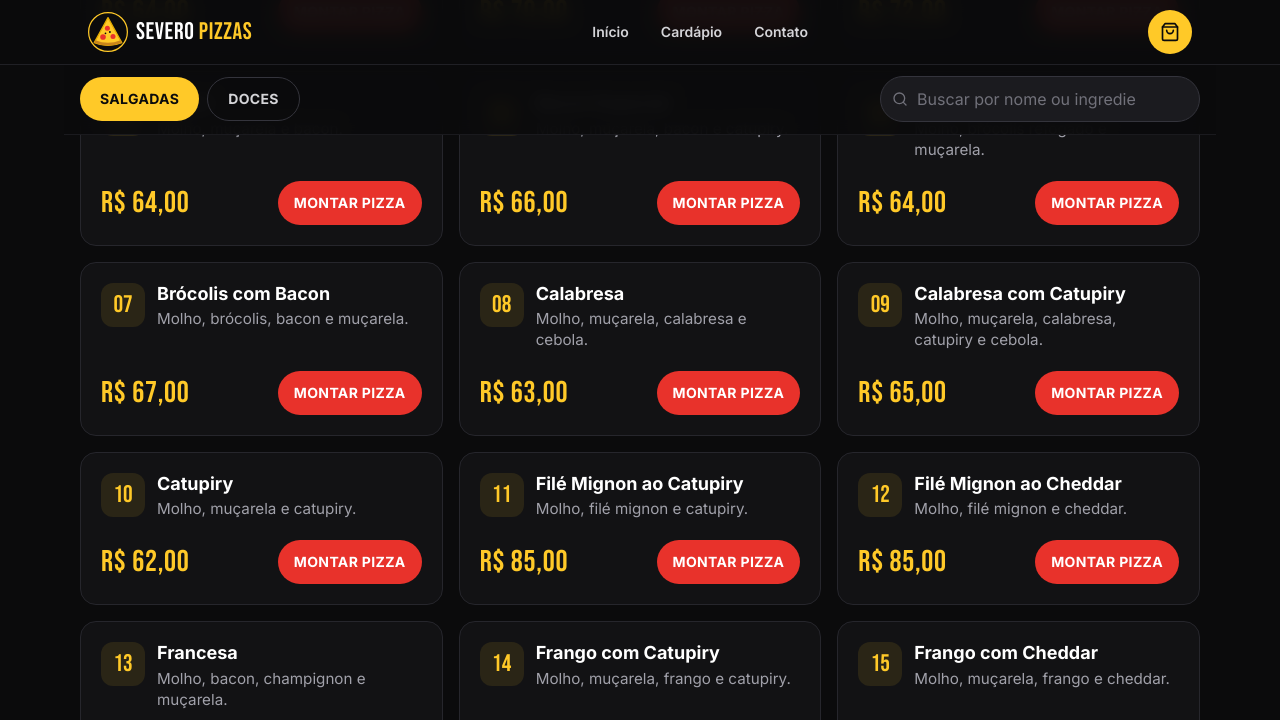
Test: personalizador › não permite o mesmo sabor nas duas metades
(page scrolled)
Click the button with aria-label "Montar pizza Calabresa" at (728, 393), box [656,371,800,415]
(page scrolled)
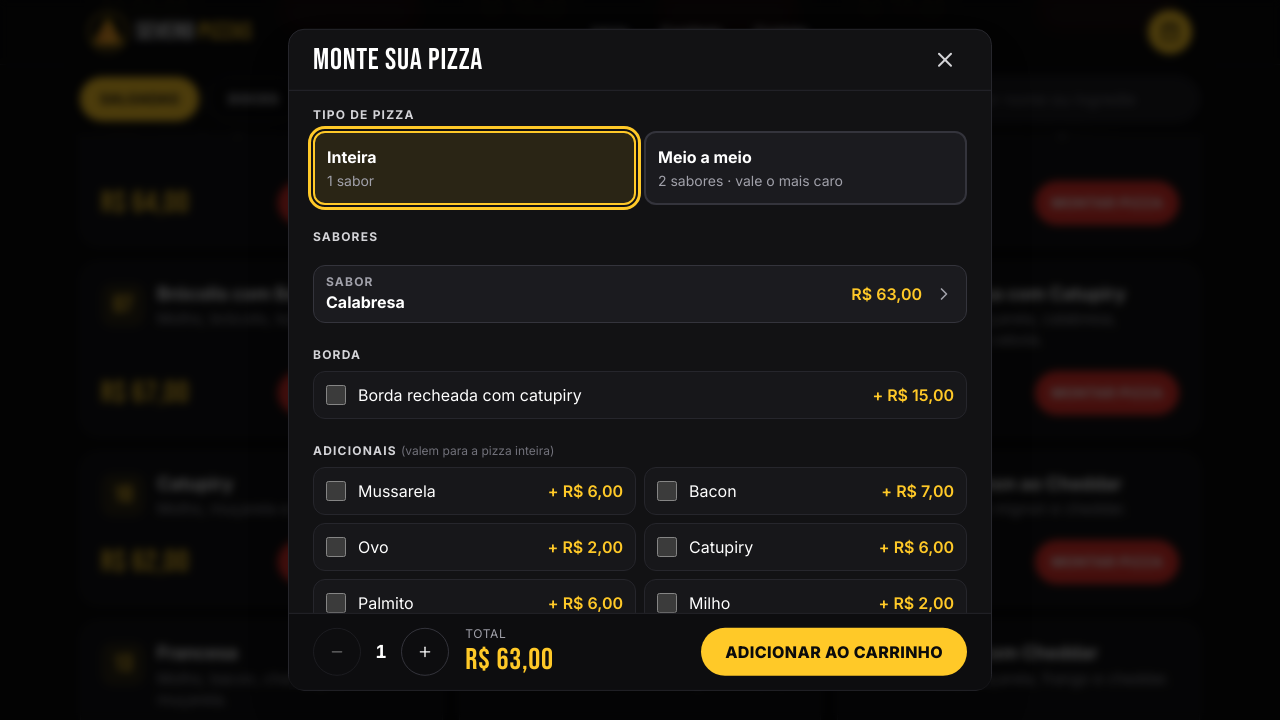
Click the radio button labelled "Meio a meio 2 sabores · vale o mais caro" at (705, 157), box [644,131,967,205]
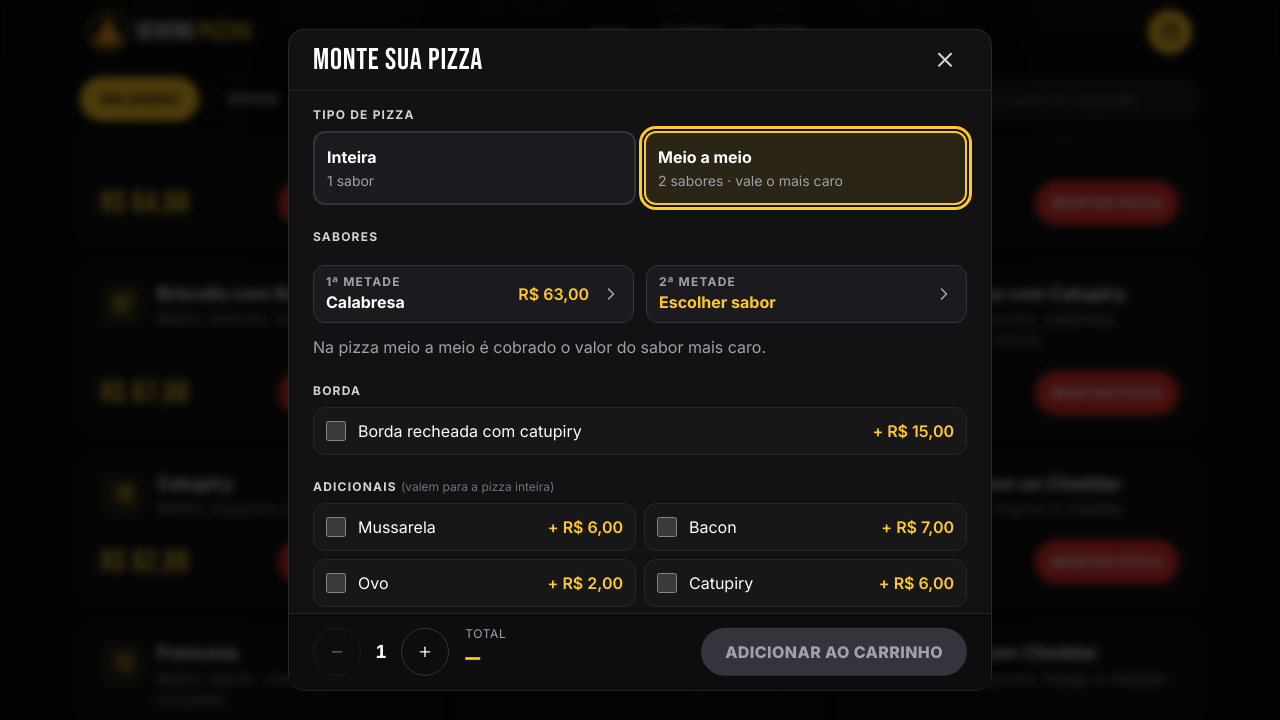
Click the button with aria-label "2ª metade:" at (698, 281), box [646,265,967,323]
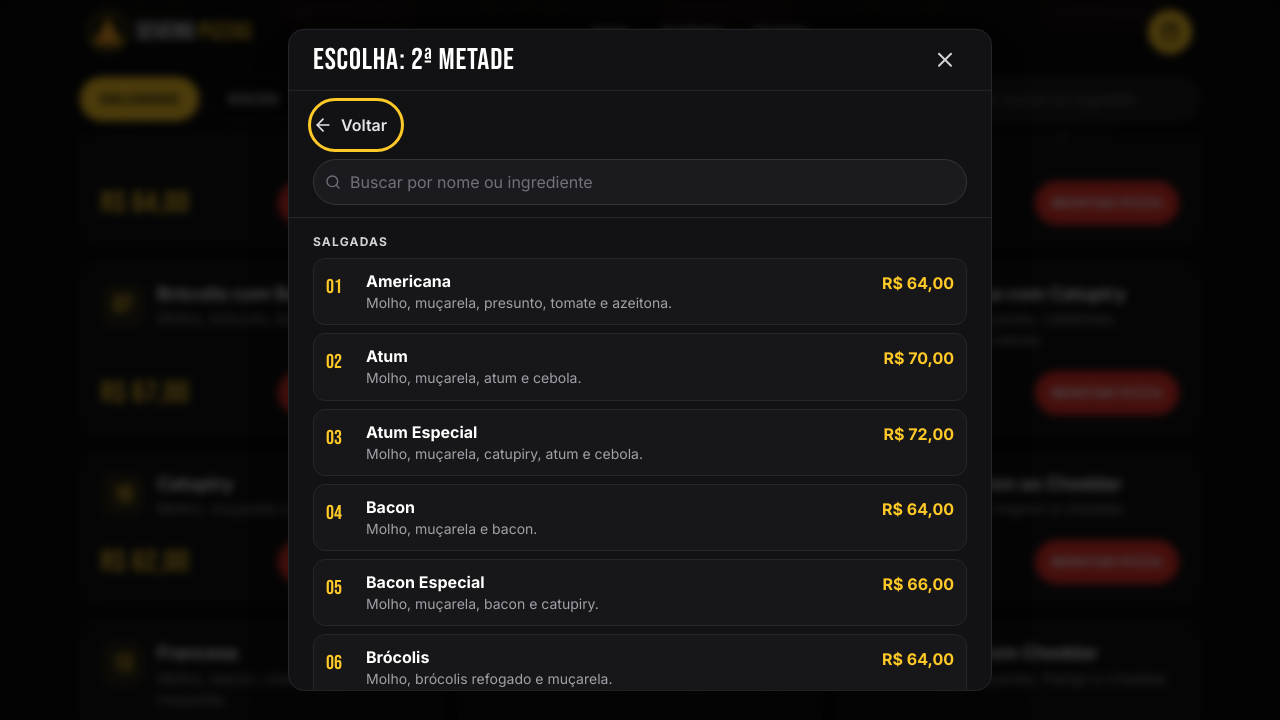
Press Escape
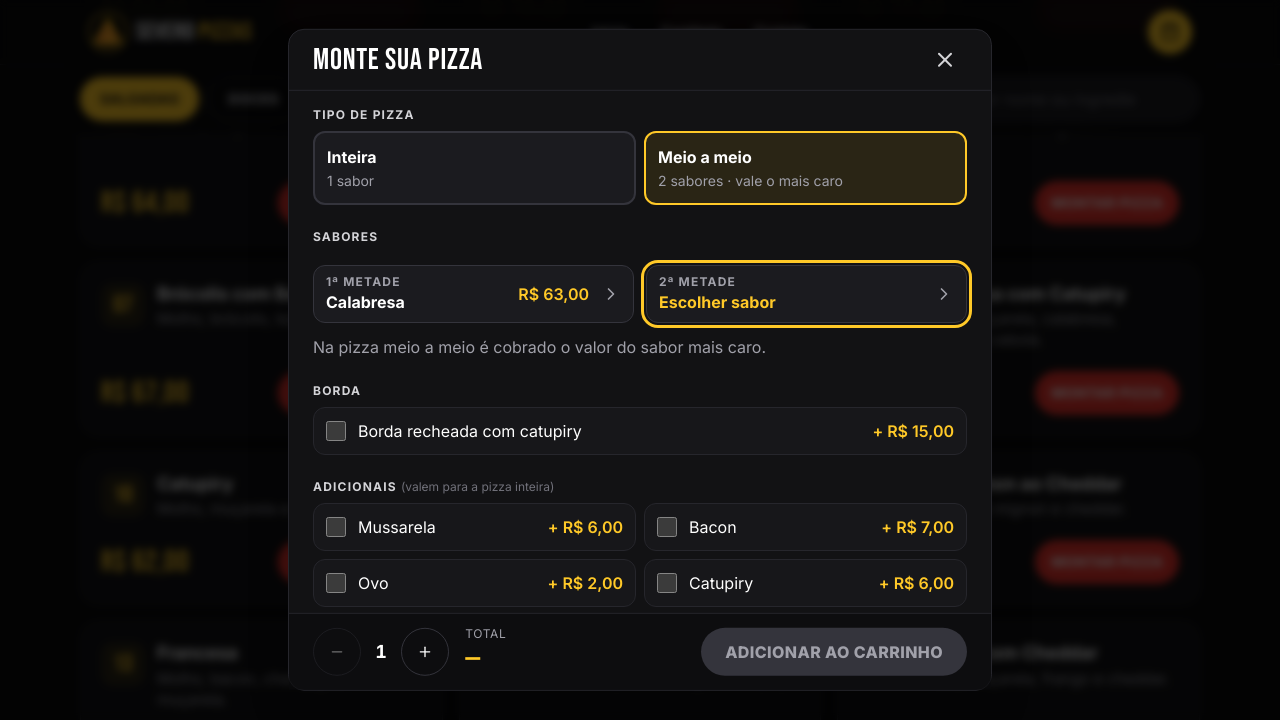
expect the button "Adicionar ao carrinho" is disabled: met, box [701,628,967,676]
